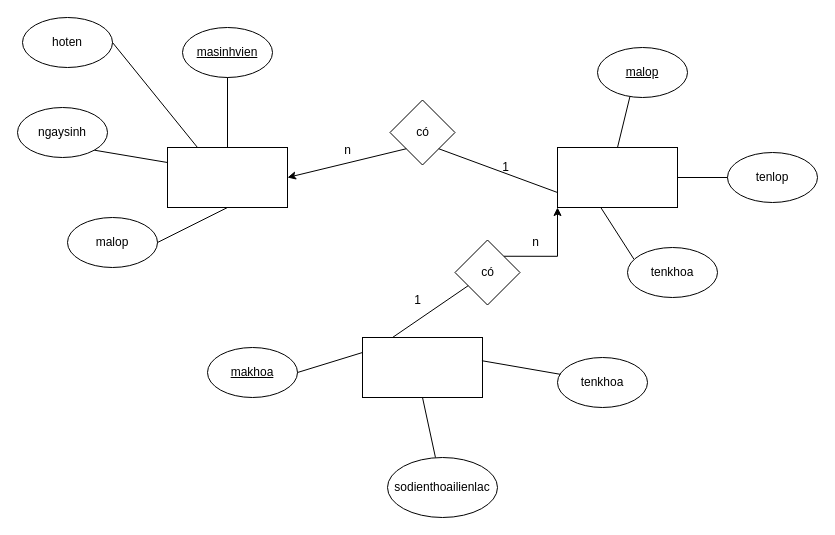
The diagram is 835 pixels wide and 535 high, and some of its shapes have lost their labels. The centre of each missing label's shape, as x and y in pixels:
"khoa" belongs at (422,367).
"lophoc" belongs at (617,177).
"sinhvien" belongs at (227,177).
